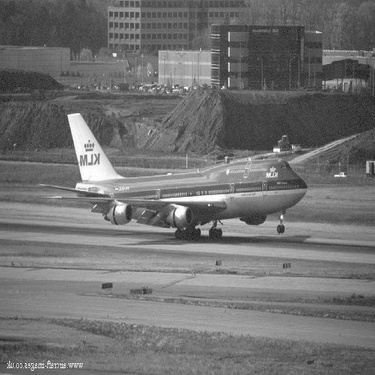airplane: (33, 104, 315, 240)
